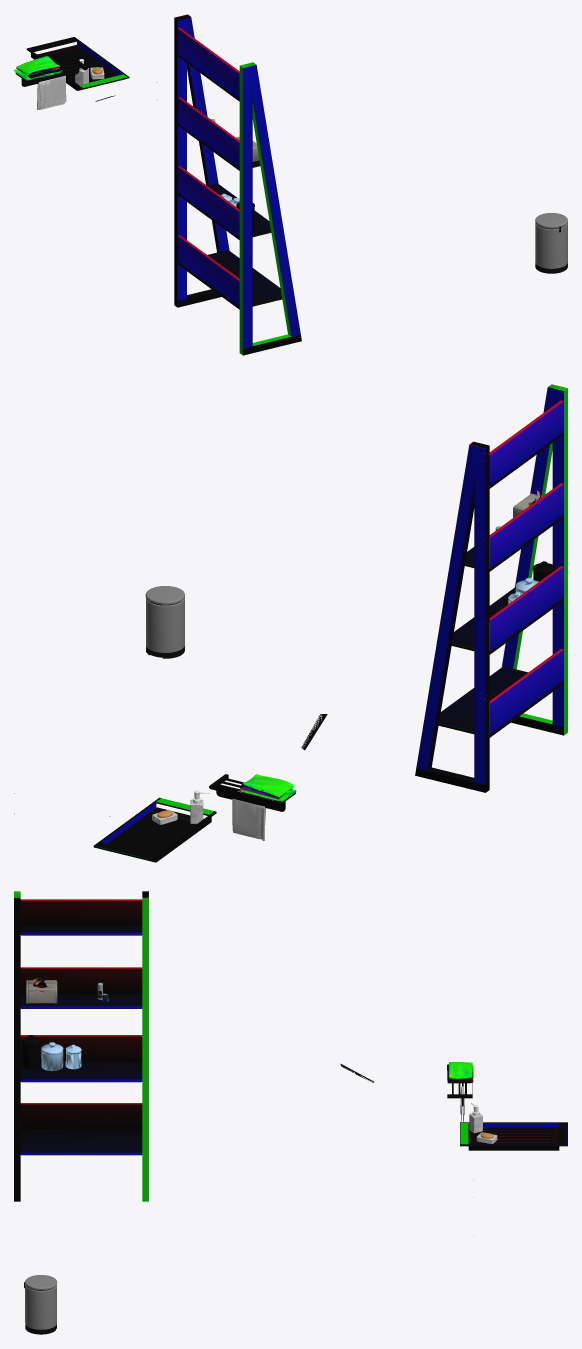
File: Baño-Caraca-Jam Objetcs 2.fbx
3 renders of one model, top to bottom at view 1: azimuth 30°, elevation 25°; view 2: azimuth 150°, elevation 25°; view 3: azimuth 270°, elevation 25°, orthographic. The views are drawn at different scales.
Visible parts, largest first — view 1: Ba_o_Caraca_Jam_Objetcs_2:Rack_Shelving_Bookcase_100_x_50_x_, Cube:_006, _006, Ba_o_Caraca_Jam_Objetcs_2:Bin, Cube:_013, _007, Cube:_012, Ba_o_Caraca_Jam_Objetcs_2:Towel_Rack, Cube:_004; view 2: Ba_o_Caraca_Jam_Objetcs_2:Rack_Shelving_Bookcase_100_x_50_x_, Cube:_006, _006, Ba_o_Caraca_Jam_Objetcs_2:Bin, Cube:_013, _007, Cube:_012, Ba_o_Caraca_Jam_Objetcs_2:Towel_Rack, Cube:_004; view 3: Cube:_006, Ba_o_Caraca_Jam_Objetcs_2:Rack_Shelving_Bookcase_100_x_50_x_, Cube:_013, _006, Cube:_012, Ba_o_Caraca_Jam_Objetcs_2:Bin, Cube:_011, Cube:_005, _001_ncl1_1, Ba_o_Caraca_Jam_Objetcs_2:Glass_pot_02, Ba_o_Caraca_Jam_Objetcs_2:Glass_pot_01.
Boxes of the visible parts, <box> form: Ba_o_Caraca_Jam_Objetcs_2:Rack_Shelving_Bookcase_100_x_50_x_: <box>174,14,301,355</box>; Cube:_006: <box>177,28,239,306</box>; _006: <box>26,37,129,90</box>; Ba_o_Caraca_Jam_Objetcs_2:Bin: <box>535,213,567,273</box>; Cube:_013: <box>178,250,282,309</box>; _007: <box>37,75,66,109</box>; Cube:_012: <box>178,183,271,239</box>; Ba_o_Caraca_Jam_Objetcs_2:Towel_Rack: <box>15,57,87,86</box>; Cube:_004: <box>16,56,59,75</box>; Ba_o_Caraca_Jam_Objetcs_2:Rack_Shelving_Bookcase_100_x_50_x_: <box>415,384,567,792</box>; Cube:_006: <box>489,400,563,733</box>; _006: <box>93,797,216,862</box>; Ba_o_Caraca_Jam_Objetcs_2:Bin: <box>145,586,184,658</box>; Cube:_013: <box>438,666,563,737</box>; _007: <box>232,798,265,840</box>; Cube:_012: <box>451,587,563,654</box>; Ba_o_Caraca_Jam_Objetcs_2:Towel_Rack: <box>209,774,295,811</box>; Cube:_004: <box>241,774,294,797</box>; Cube:_006: <box>20,899,142,1129</box>; Ba_o_Caraca_Jam_Objetcs_2:Rack_Shelving_Bookcase_100_x_50_x_: <box>14,891,148,1201</box>; Cube:_013: <box>20,1129,142,1155</box>; _006: <box>460,1122,567,1150</box>; Cube:_012: <box>20,1061,142,1082</box>; Ba_o_Caraca_Jam_Objetcs_2:Bin: <box>24,1275,57,1334</box>; Cube:_011: <box>20,993,142,1008</box>; Cube:_005: <box>20,925,142,935</box>; _001_ncl1_1: <box>26,980,57,1003</box>; Ba_o_Caraca_Jam_Objetcs_2:Glass_pot_02: <box>41,1042,63,1071</box>; Ba_o_Caraca_Jam_Objetcs_2:Glass_pot_01: <box>22,1035,40,1069</box>.
Bounding box in the file's own units: 7346 × 6000 × 10673.
